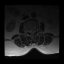CCS_normal: (31, 28, 33, 36)
LFS_normal: (34, 28, 36, 33)
LLS_normal: (33, 28, 34, 35)
RFS_normal: (28, 28, 30, 34)
RLS_normal: (30, 28, 31, 34)
